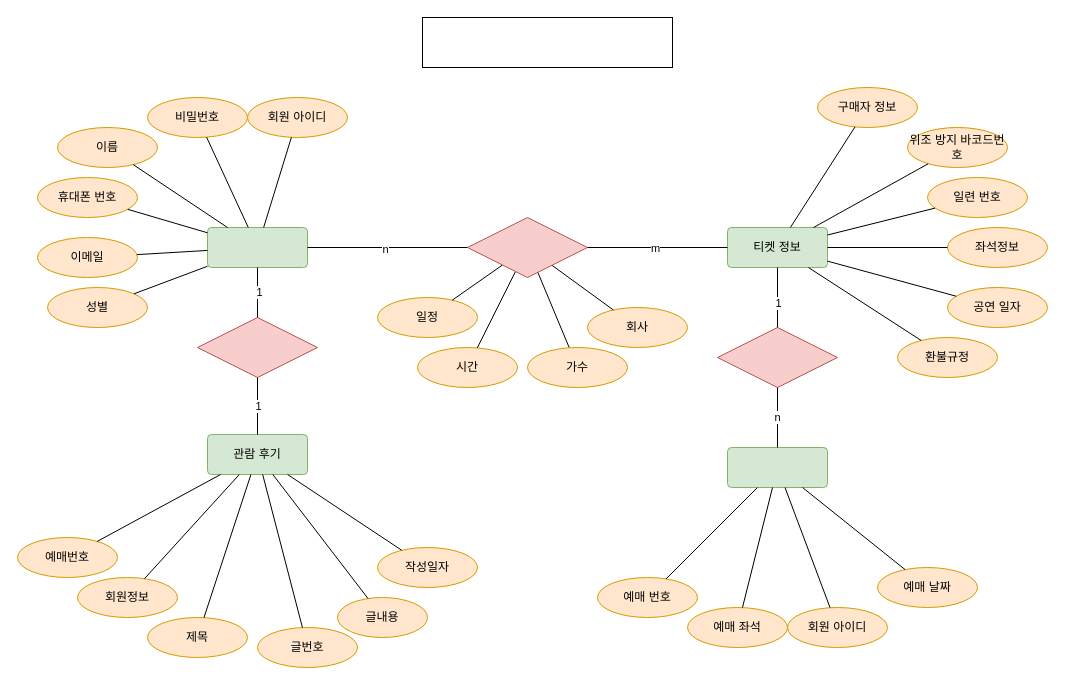
Image size: 1065x685. Some labels were removed from this diagram. Here are the shapes that lost their labels. From the top down, the box of each, then its label:
(422, 16, 672, 68): 콘서트 예매 관리 프로그램
(206, 226, 308, 268): 회원
(466, 216, 588, 278): 공연 예매
(196, 316, 318, 378): 관람 후 작성
(716, 326, 838, 388): 티켓팅 후
(726, 446, 828, 488): 예매 정보
